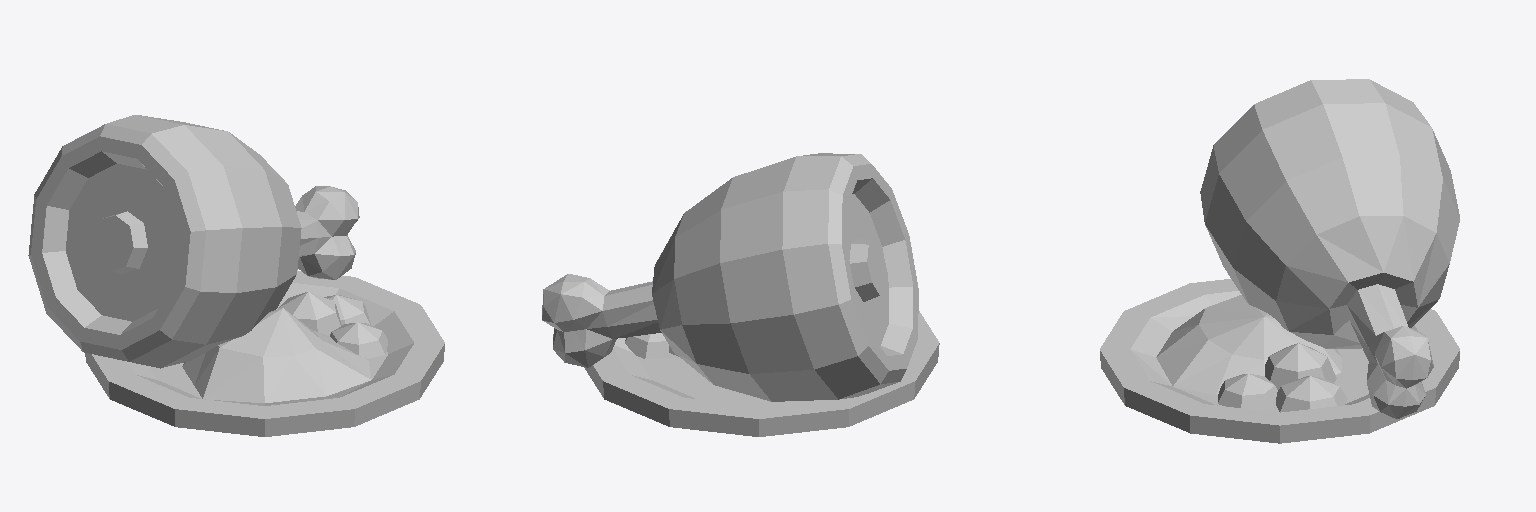
File: plate_food_A.obj
3 renders of one model, left to right at view 1: azimuth 30°, elevation 25°; view 2: azimuth 150°, elevation 25°; view 3: azimuth 270°, elevation 25°, orthographic.
Visible parts, largest first — view 1: plate_food_A; view 2: plate_food_A; view 3: plate_food_A.
Part boxes in pixels (left/top/right/bottom): plate_food_A: left=28, top=115, right=444, bottom=436; plate_food_A: left=542, top=153, right=939, bottom=436; plate_food_A: left=1100, top=79, right=1459, bottom=443.
Size of the model in its own units: 1.02 by 0.7875 by 0.9706.